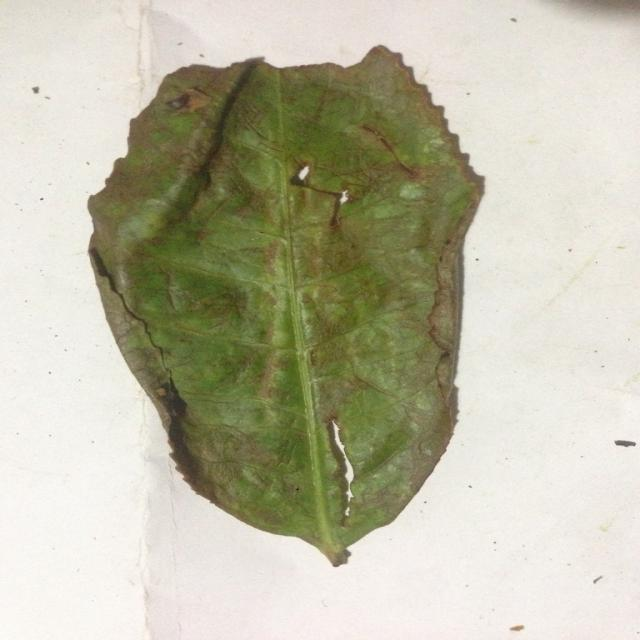Red Leaf Spot: (75, 37, 483, 570)
